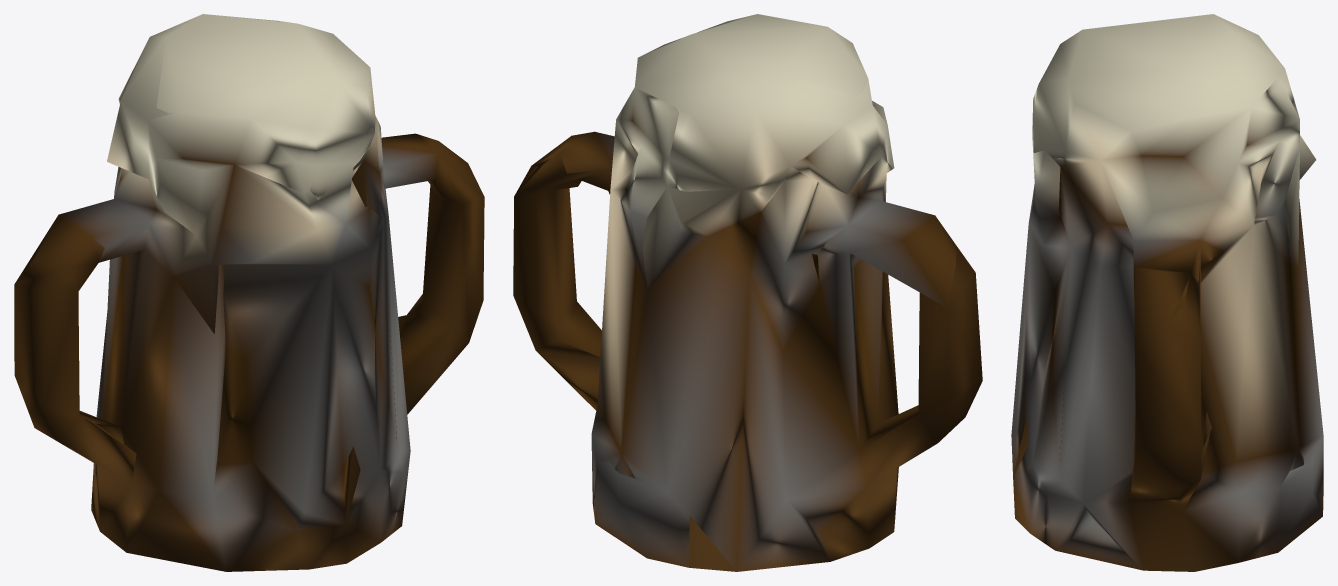
File: gen3d-tankard-lod1.glb
The picture shows the model from 3 angles, left to right: view 1: azimuth 30°, elevation 25°; view 2: azimuth 150°, elevation 25°; view 3: azimuth 270°, elevation 25°; orthographic projection.
Visible parts, largest first — view 1: part_0; view 2: part_0; view 3: part_0.
Part boxes in pixels (x1=…): part_0: x1=14, y1=14, x2=484, y2=571; part_0: x1=513, y1=14, x2=982, y2=571; part_0: x1=1011, y1=14, x2=1323, y2=571.
Bounding box in the file's own units: 0.9624 × 0.9929 × 0.597.
